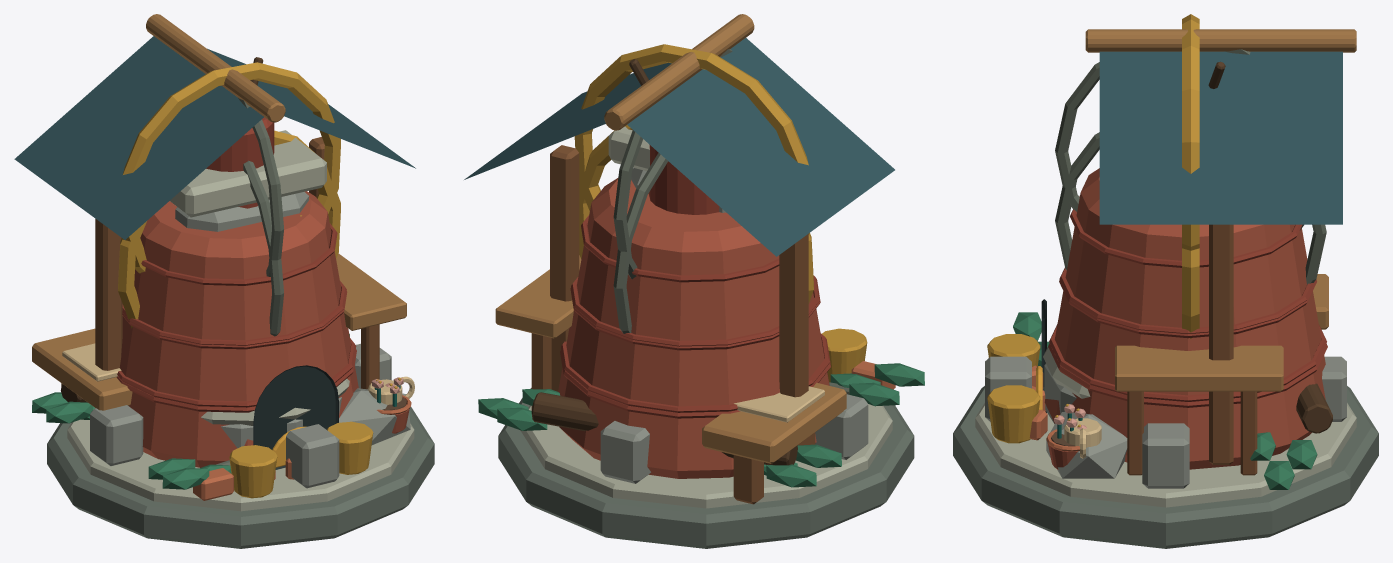
File: living-kit.glb
The picture shows the model from 3 angles, left to right: view 1: azimuth 30°, elevation 25°; view 2: azimuth 150°, elevation 25°; view 3: azimuth 270°, elevation 25°; orthographic projection. The views are drawn at different scales.
Parts seen in each view (by area): view 1: discovery_kiln_restored_mesh, discovery_spring_restored_mesh, discovery_kiln_mesh, discovery_stars_restored_mesh, discovery_waystone_restored_mesh, discovery_waystone_mesh, discovery_stars_mesh, discovery_spring_mesh; view 2: discovery_kiln_restored_mesh, discovery_spring_restored_mesh, discovery_stars_restored_mesh, discovery_stars_mesh, discovery_waystone_mesh, discovery_waystone_restored_mesh, discovery_spring_mesh, discovery_kiln_mesh; view 3: discovery_spring_restored_mesh, discovery_kiln_restored_mesh, discovery_waystone_mesh, discovery_stars_mesh, discovery_stars_restored_mesh, discovery_kiln_mesh, discovery_spring_mesh, discovery_waystone_restored_mesh.
Part boxes in pixels (x1=…): discovery_kiln_restored_mesh: x1=117, y1=117, x2=406, y2=498; discovery_spring_restored_mesh: x1=14, y1=14, x2=415, y2=404; discovery_kiln_mesh: x1=51, y1=291, x2=414, y2=548; discovery_stars_restored_mesh: x1=32, y1=57, x2=407, y2=543; discovery_waystone_restored_mesh: x1=32, y1=130, x2=411, y2=532; discovery_waystone_mesh: x1=47, y1=388, x2=434, y2=545; discovery_stars_mesh: x1=56, y1=130, x2=434, y2=542; discovery_spring_mesh: x1=32, y1=314, x2=409, y2=547; discovery_kiln_restored_mesh: x1=495, y1=144, x2=867, y2=478; discovery_spring_restored_mesh: x1=464, y1=14, x2=894, y2=445; discovery_stars_restored_mesh: x1=486, y1=44, x2=924, y2=548; discovery_stars_mesh: x1=503, y1=125, x2=914, y2=548; discovery_waystone_mesh: x1=498, y1=404, x2=894, y2=548; discovery_waystone_restored_mesh: x1=506, y1=126, x2=909, y2=520; discovery_spring_mesh: x1=478, y1=282, x2=924, y2=519; discovery_kiln_mesh: x1=498, y1=192, x2=914, y2=533; discovery_spring_restored_mesh: x1=1064, y1=29, x2=1356, y2=464; discovery_kiln_restored_mesh: x1=987, y1=168, x2=1326, y2=475; discovery_waystone_mesh: x1=955, y1=387, x2=1376, y2=548; discovery_stars_mesh: x1=953, y1=132, x2=1378, y2=546; discovery_stars_restored_mesh: x1=953, y1=14, x2=1378, y2=548; discovery_kiln_mesh: x1=953, y1=280, x2=1378, y2=547; discovery_spring_mesh: x1=965, y1=312, x2=1332, y2=546; discovery_waystone_restored_mesh: x1=955, y1=274, x2=1369, y2=542.
Bounding box in the file's own units: 1.54 × 1.77 × 1.54.
